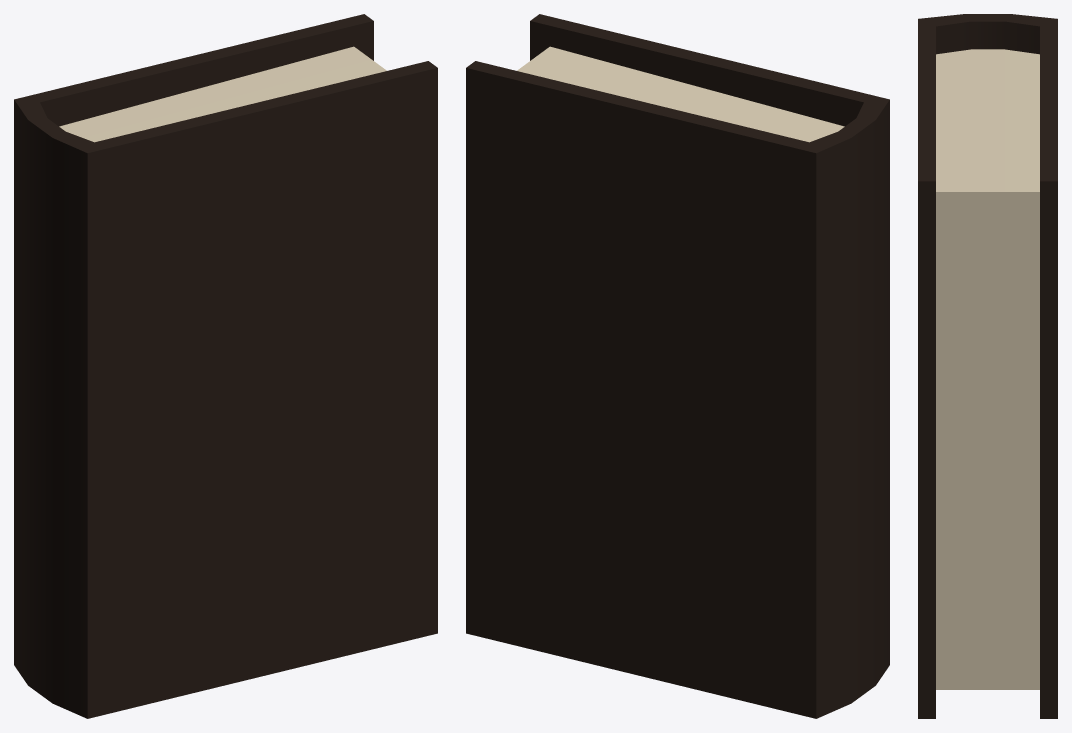
File: F_Book_06.fbx
The picture shows the model from 3 angles, left to right: view 1: azimuth 30°, elevation 25°; view 2: azimuth 150°, elevation 25°; view 3: azimuth 270°, elevation 25°; orthographic projection. The views are drawn at different scales.
Parts seen in each view (by area): view 1: F_BrownBook; view 2: F_BrownBook; view 3: F_BrownBook.
Boxes of the visible parts, bbox=[...] form: F_BrownBook: bbox=[14, 14, 437, 718]; F_BrownBook: bbox=[466, 14, 889, 718]; F_BrownBook: bbox=[918, 14, 1057, 718].
Size of the model in its own units: 28.11 by 42.12 by 9.92.
